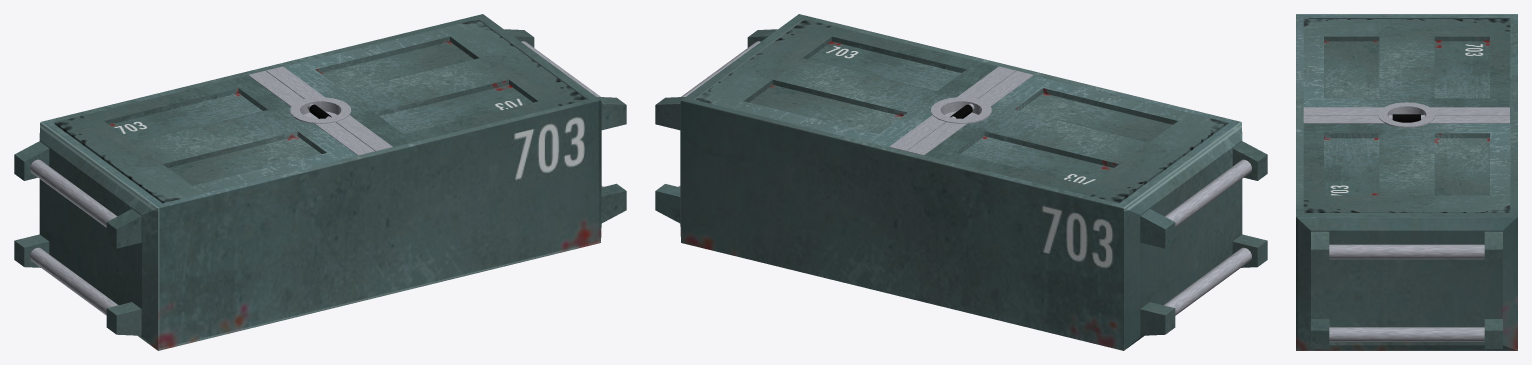
Rendered from SteelCrate.fbx.
3 views of the same model, side by side, from view 1: azimuth 30°, elevation 25°; view 2: azimuth 150°, elevation 25°; view 3: azimuth 270°, elevation 25° (orthographic). The views are drawn at different scales.
Parts seen in each view (by area): view 1: CrateBody, Door2, Door0, pCylinder7, pCylinder8, pPipe1, pCube27, pCube26, pCube25, pCube24; view 2: CrateBody, Door2, Door0, pCylinder7, pCylinder8, pPipe1, pCube24, pCube25, pCube27, pCube26; view 3: CrateBody, Door0, Door2, pCylinder6, pCylinder4, pPipe1, pCube26, pCube25, pCube27, pCube24, pCylinder11.
Boxes of the visible parts, x1=… form: CrateBody: x1=14, y1=14, x2=626, y2=350; Door2: x1=55, y1=75, x2=357, y2=203; Door0: x1=284, y1=19, x2=586, y2=146; pCylinder7: x1=30, y1=159, x2=117, y2=227; pCylinder8: x1=30, y1=247, x2=118, y2=315; pPipe1: x1=290, y1=97, x2=351, y2=123; pCube27: x1=314, y1=122, x2=375, y2=155; pCube26: x1=336, y1=115, x2=392, y2=151; pCube25: x1=266, y1=66, x2=324, y2=98; pCube24: x1=248, y1=70, x2=303, y2=106; CrateBody: x1=655, y1=14, x2=1267, y2=350; Door2: x1=906, y1=75, x2=1226, y2=203; Door0: x1=695, y1=19, x2=997, y2=146; pCylinder7: x1=1165, y1=159, x2=1251, y2=227; pCylinder8: x1=1164, y1=247, x2=1251, y2=315; pPipe1: x1=930, y1=97, x2=991, y2=123; pCube24: x1=907, y1=122, x2=967, y2=155; pCube25: x1=889, y1=115, x2=945, y2=151; pCube27: x1=978, y1=71, x2=1033, y2=106; pCube26: x1=957, y1=66, x2=1015, y2=98; CrateBody: x1=1296, y1=14, x2=1517, y2=350; Door0: x1=1303, y1=116, x2=1510, y2=212; Door2: x1=1303, y1=19, x2=1510, y2=115; pCylinder6: x1=1329, y1=244, x2=1484, y2=259; pCylinder4: x1=1329, y1=327, x2=1484, y2=341; pPipe1: x1=1378, y1=102, x2=1435, y2=127; pCube26: x1=1303, y1=115, x2=1385, y2=123; pCube25: x1=1428, y1=115, x2=1509, y2=123; pCube27: x1=1303, y1=107, x2=1383, y2=115; pCube24: x1=1430, y1=107, x2=1509, y2=115; pCylinder11: x1=1392, y1=114, x2=1420, y2=122.
Bounding box in the file's own units: 2.65 × 0.713 × 1.06.
4 materials, 3 textured.
